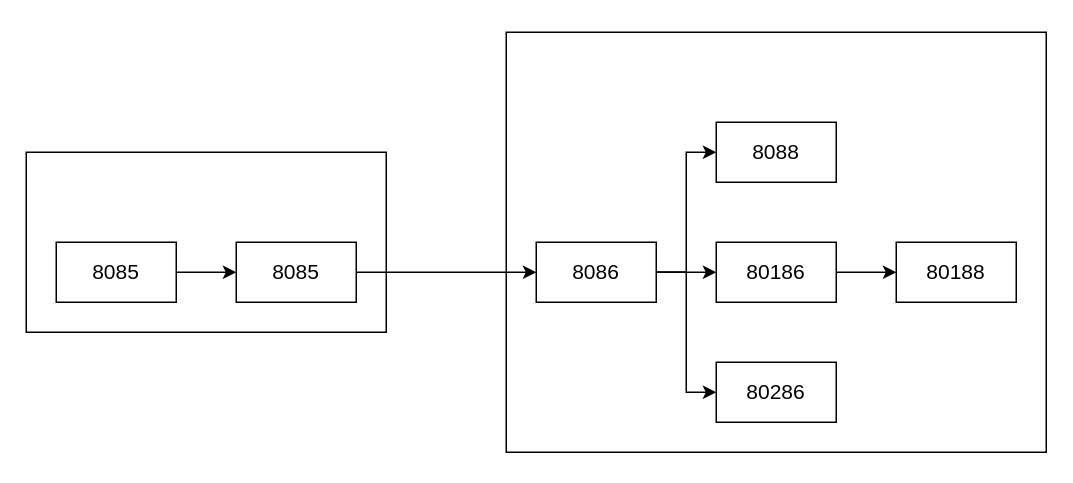
This 1073x483 diagram has some shape labels left out. Each missing label, with the box of its shape:
16-битные МП Intel: (505, 31, 1046, 452)
8-битные предшественники: (25, 151, 386, 332)
